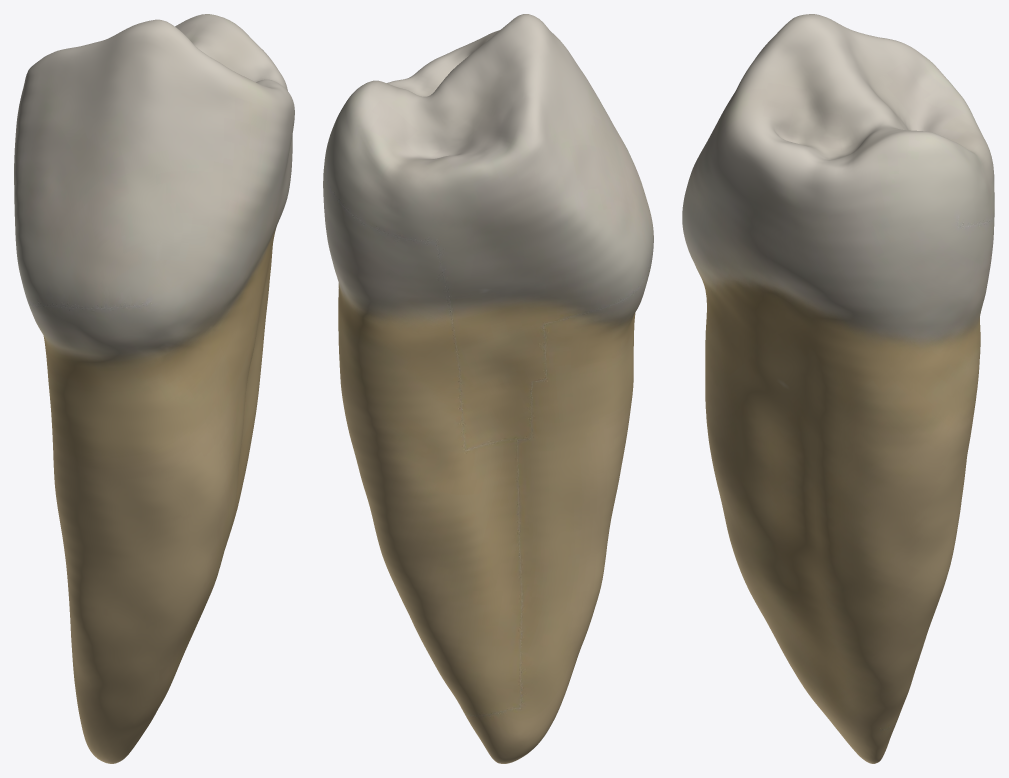
The picture shows the model from 3 angles, left to right: view 1: azimuth 30°, elevation 25°; view 2: azimuth 150°, elevation 25°; view 3: azimuth 270°, elevation 25°; orthographic projection. The views are drawn at different scales.
Visible parts, largest first — view 1: diente-44; view 2: diente-44; view 3: diente-44.
Boxes of the visible parts, <box> form: diente-44: <box>14,14,294,763</box>; diente-44: <box>323,14,653,763</box>; diente-44: <box>682,14,994,763</box>.
Size of the model in its own units: 0.0087 by 0.0225 by 0.00849.
1 material, 1 textured.
